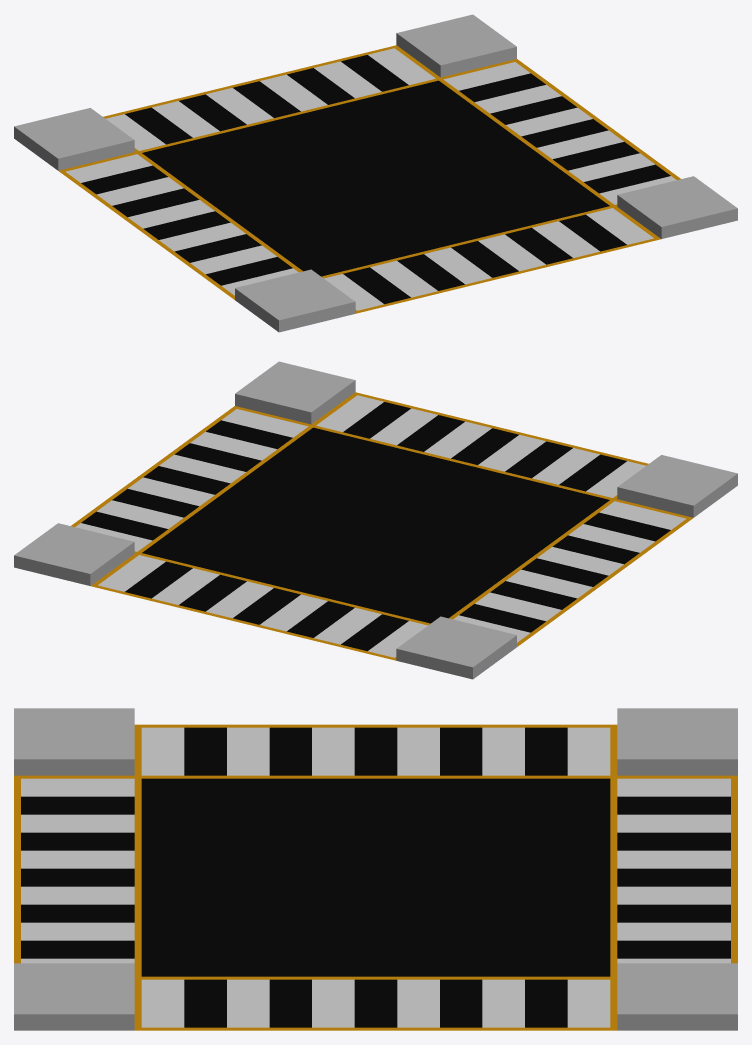
File: Walking Road.001_Material.002.glb
3 views of the same model, one above another, from view 1: azimuth 30°, elevation 25°; view 2: azimuth 150°, elevation 25°; view 3: azimuth 270°, elevation 25° (orthographic). The views are drawn at different scales.
Parts seen in each view (by area): view 1: Walking Road.001_Material.002_0; view 2: Walking Road.001_Material.002_0; view 3: Walking Road.001_Material.002_0.
Boxes of the visible parts, x1=… form: Walking Road.001_Material.002_0: x1=14, y1=14, x2=737, y2=332; Walking Road.001_Material.002_0: x1=14, y1=361, x2=737, y2=679; Walking Road.001_Material.002_0: x1=14, y1=708, x2=737, y2=1030.
Bounding box in the file's own units: 2 × 0.0504 × 2.
1 material, 1 textured.
